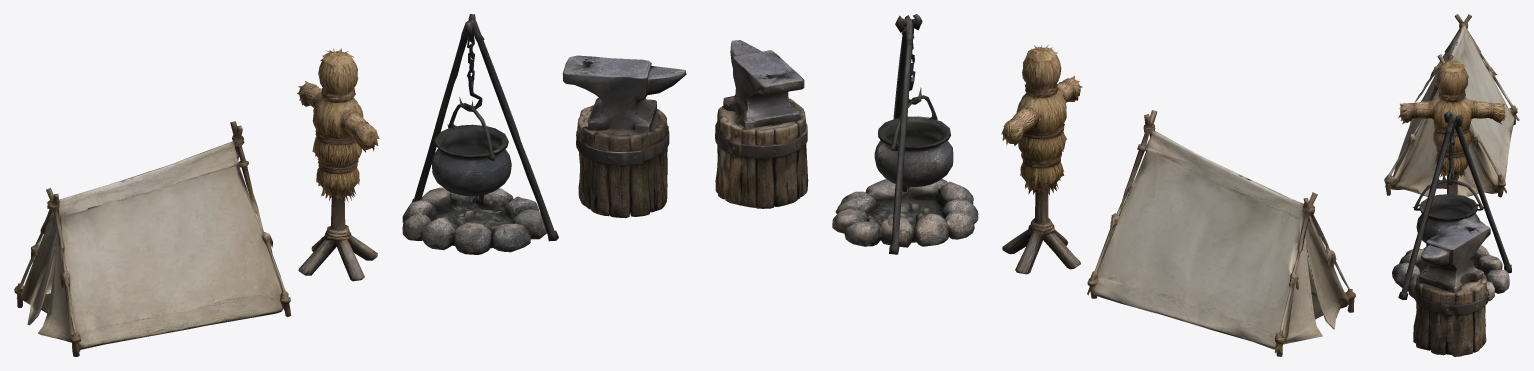
The model's file is props_camp.glb.
3 views of the same model, side by side, from view 1: azimuth 30°, elevation 25°; view 2: azimuth 150°, elevation 25°; view 3: azimuth 270°, elevation 25° (orthographic). The views are drawn at different scales.
Parts seen in each view (by area): view 1: tent, cooking_pot, anvil, dummy; view 2: tent, cooking_pot, anvil, dummy; view 3: tent, anvil, cooking_pot, dummy.
Part boxes in pixels (x1,y1,x2,y2): tent: [14, 121, 290, 356]; cooking_pot: [402, 14, 558, 254]; anvil: [562, 55, 686, 218]; dummy: [297, 48, 379, 281]; tent: [1087, 110, 1355, 356]; cooking_pot: [832, 14, 978, 254]; anvil: [715, 40, 808, 208]; dummy: [1001, 44, 1082, 274]; tent: [1384, 14, 1519, 197]; anvil: [1413, 218, 1490, 356]; cooking_pot: [1392, 110, 1511, 301]; dummy: [1398, 59, 1505, 228].
Bounding box in the file's own units: 1.27 × 0.4215 × 0.3001.
Materials: 1 (1 with a texture image).
